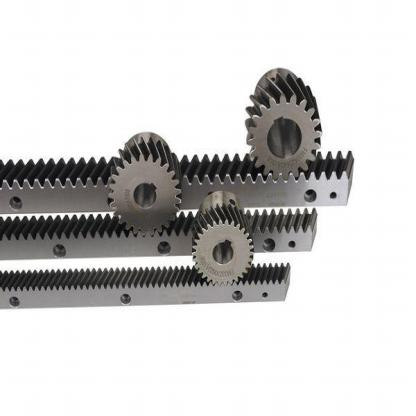FOD: (243, 66, 324, 183), (105, 131, 184, 242), (190, 188, 256, 290)
